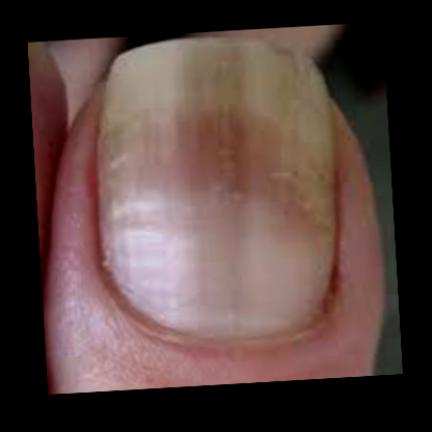Nail: (102, 39, 337, 337)
